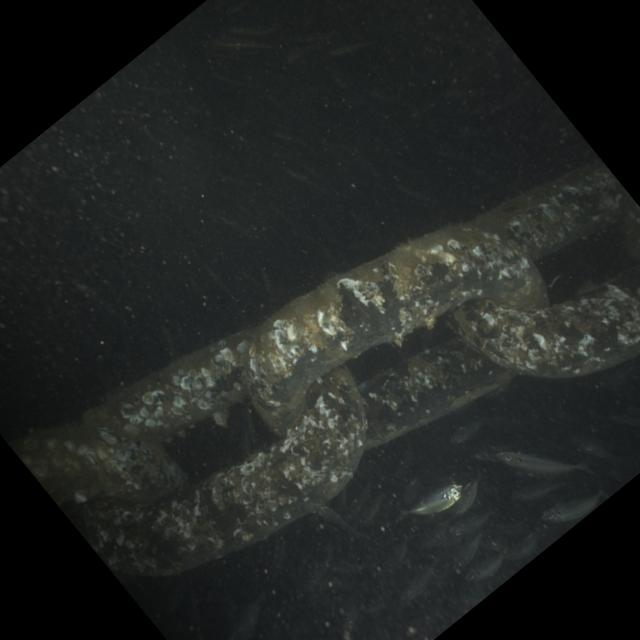ChainLink: (247, 226, 547, 430), (87, 367, 368, 575), (456, 266, 640, 377), (362, 337, 513, 447), (482, 163, 640, 259), (10, 423, 185, 504), (117, 334, 250, 440)
